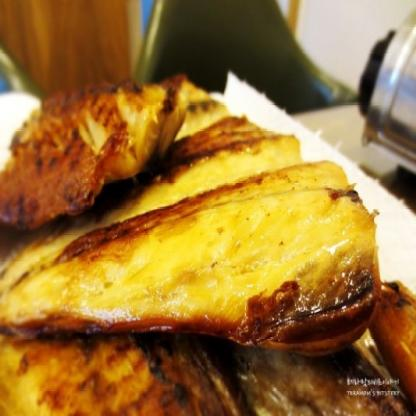Peixe: (0, 76, 398, 416)
